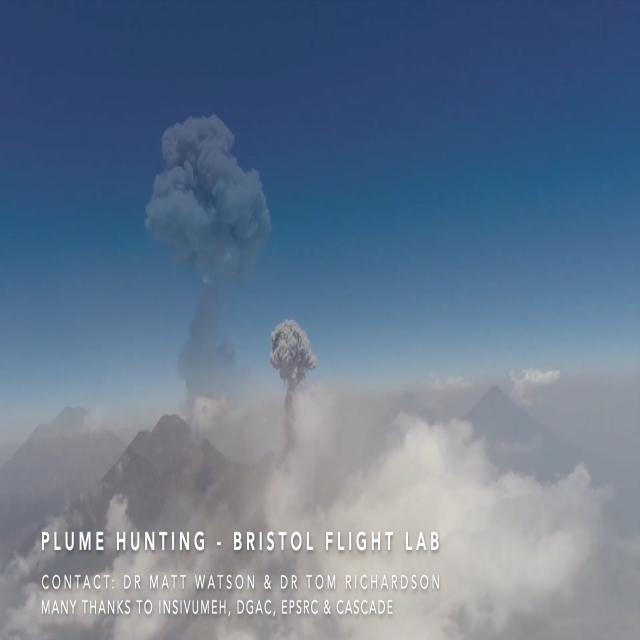Plume: (146, 103, 270, 274), (266, 314, 319, 394)
